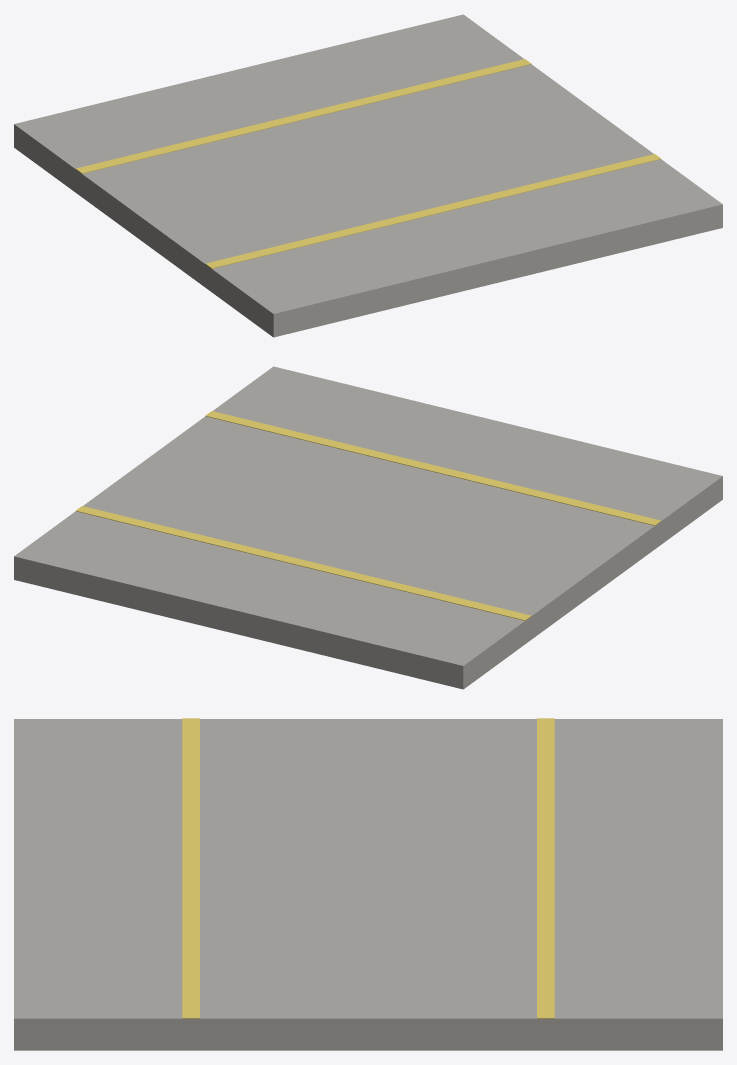
Rendered from kit_floor.glb.
The picture shows the model from 3 angles, top to bottom: view 1: azimuth 30°, elevation 25°; view 2: azimuth 150°, elevation 25°; view 3: azimuth 270°, elevation 25°; orthographic projection. The views are drawn at different scales.
Parts seen in each view (by area): view 1: kit_floor; view 2: kit_floor; view 3: kit_floor.
Boxes of the visible parts, x1,y1,x2,y2 form: kit_floor: (14, 14, 722, 337); kit_floor: (14, 366, 722, 689); kit_floor: (14, 718, 722, 1050).
Size of the model in its own units: 4 by 0.2051 by 4.
